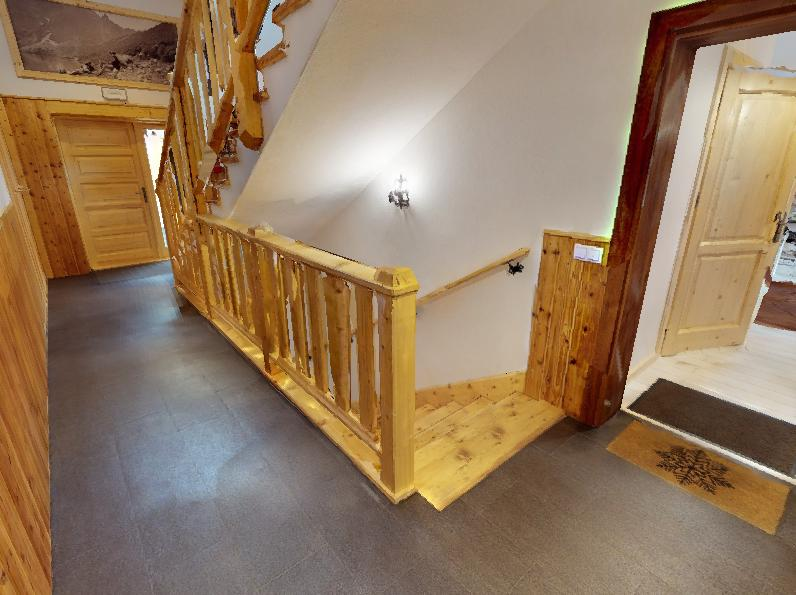door: (669, 66, 788, 367), (56, 119, 162, 278)
door-frame: (594, 2, 796, 496)
stairs: (186, 222, 556, 478), (142, 0, 329, 292)
